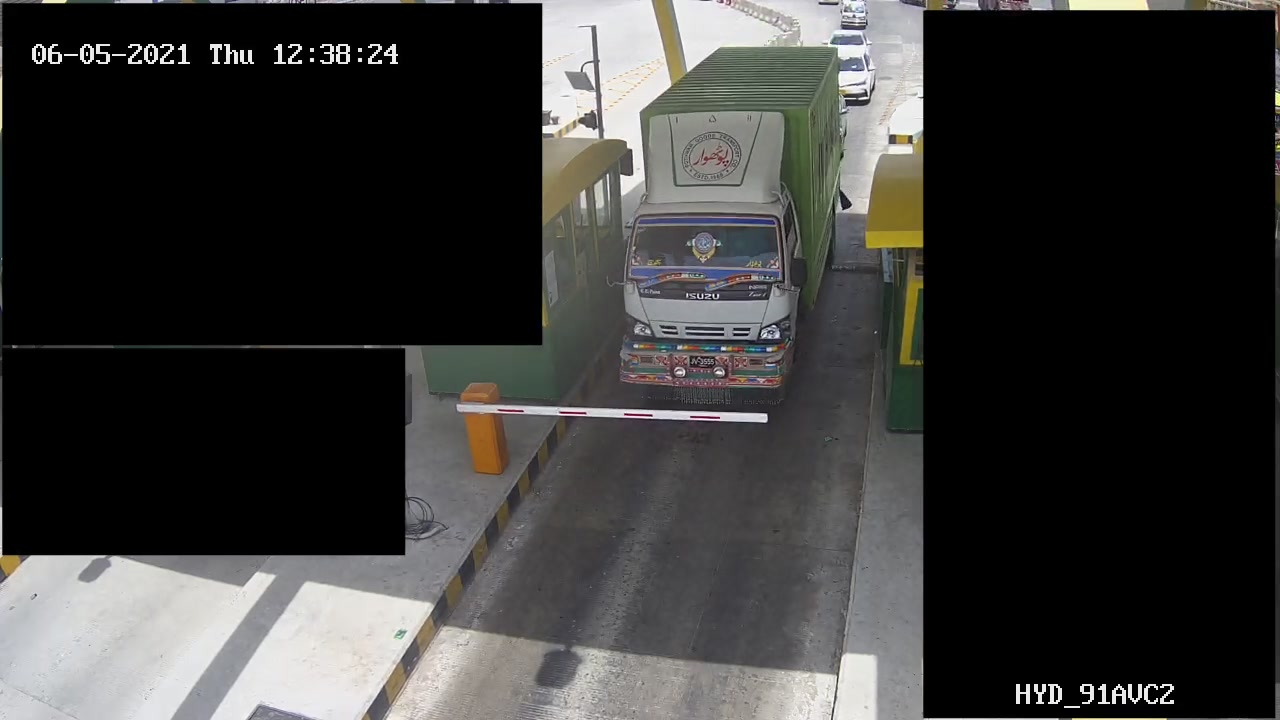F3: (618, 42, 848, 403)
